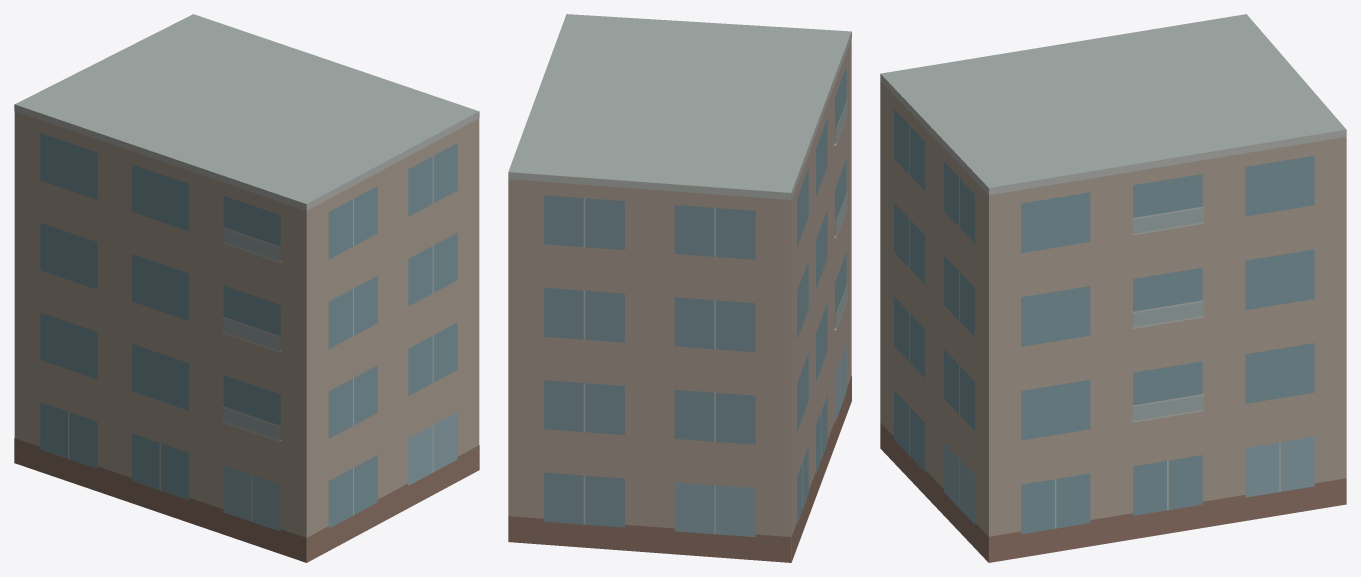
The model's file is survey-upis-32941648.glb.
3 renders of one model, left to right at view 1: azimuth 30°, elevation 25°; view 2: azimuth 150°, elevation 25°; view 3: azimuth 270°, elevation 25°, orthographic. The views are drawn at different scales.
Parts seen in each view (by area): view 1: survey-upis-32941648.tmp; view 2: survey-upis-32941648.tmp; view 3: survey-upis-32941648.tmp.
Part boxes in pixels (left/top/right/bottom): survey-upis-32941648.tmp: left=14, top=14, right=479, bottom=562; survey-upis-32941648.tmp: left=508, top=14, right=851, bottom=562; survey-upis-32941648.tmp: left=880, top=14, right=1346, bottom=562.
Size of the model in its own units: 12.76 by 12.8 by 14.44.
